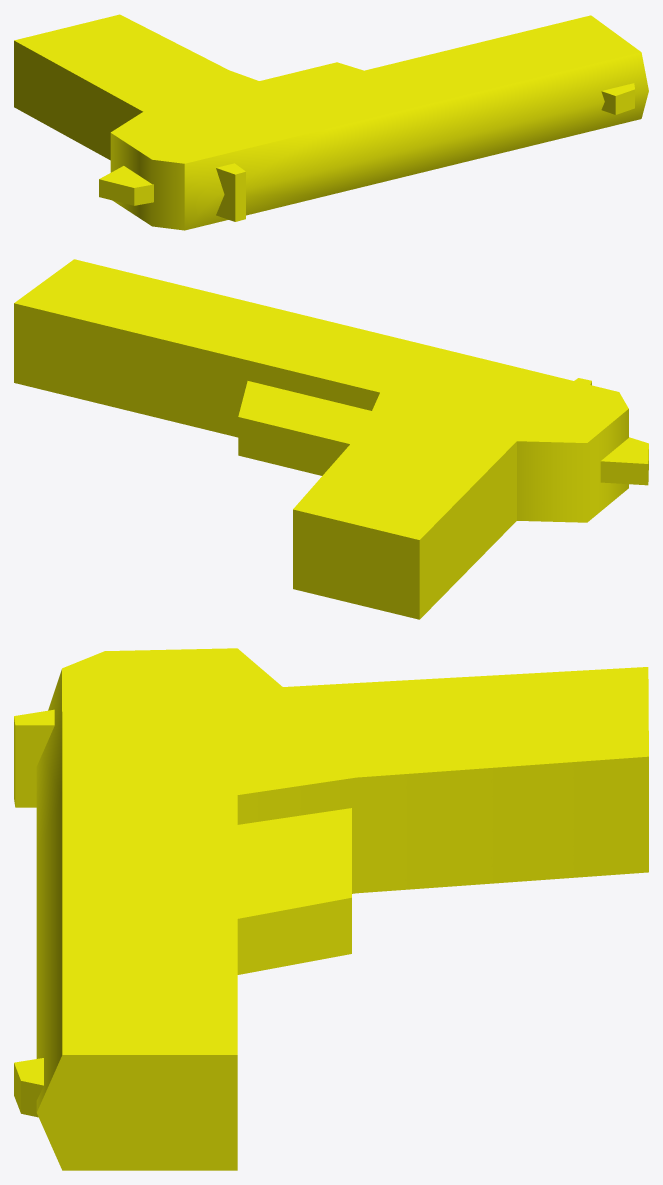
Rendered from weapon_tokarev.glb.
The picture shows the model from 3 angles, top to bottom: view 1: azimuth 30°, elevation 25°; view 2: azimuth 150°, elevation 25°; view 3: azimuth 270°, elevation 25°; orthographic projection. The views are drawn at different scales.
Visible parts, largest first — view 1: weapon_tokarev; view 2: weapon_tokarev; view 3: weapon_tokarev.
Part boxes in pixels (x1,y1,x2,y2): weapon_tokarev: [14, 14, 648, 230]; weapon_tokarev: [14, 259, 648, 619]; weapon_tokarev: [14, 648, 648, 1170].
Size of the model in its own units: 0.4896 by 0.061 by 0.3033.
Materials: 1 (1 with a texture image).
